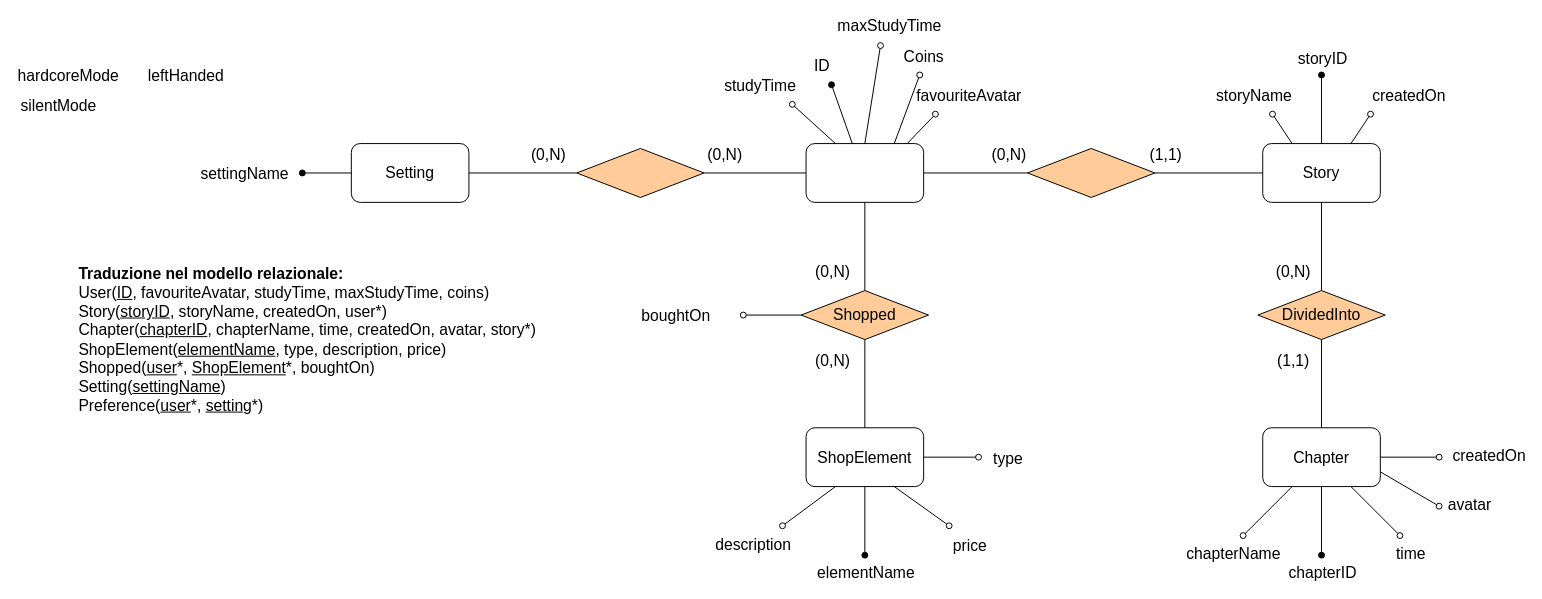
Image size: 1542x599. Some labels were removed from this diagram. Each missing label, with the box of its shape:
Preference: (576, 147, 704, 197)
User: (805, 143, 924, 202)
Wrote: (1027, 147, 1155, 197)
